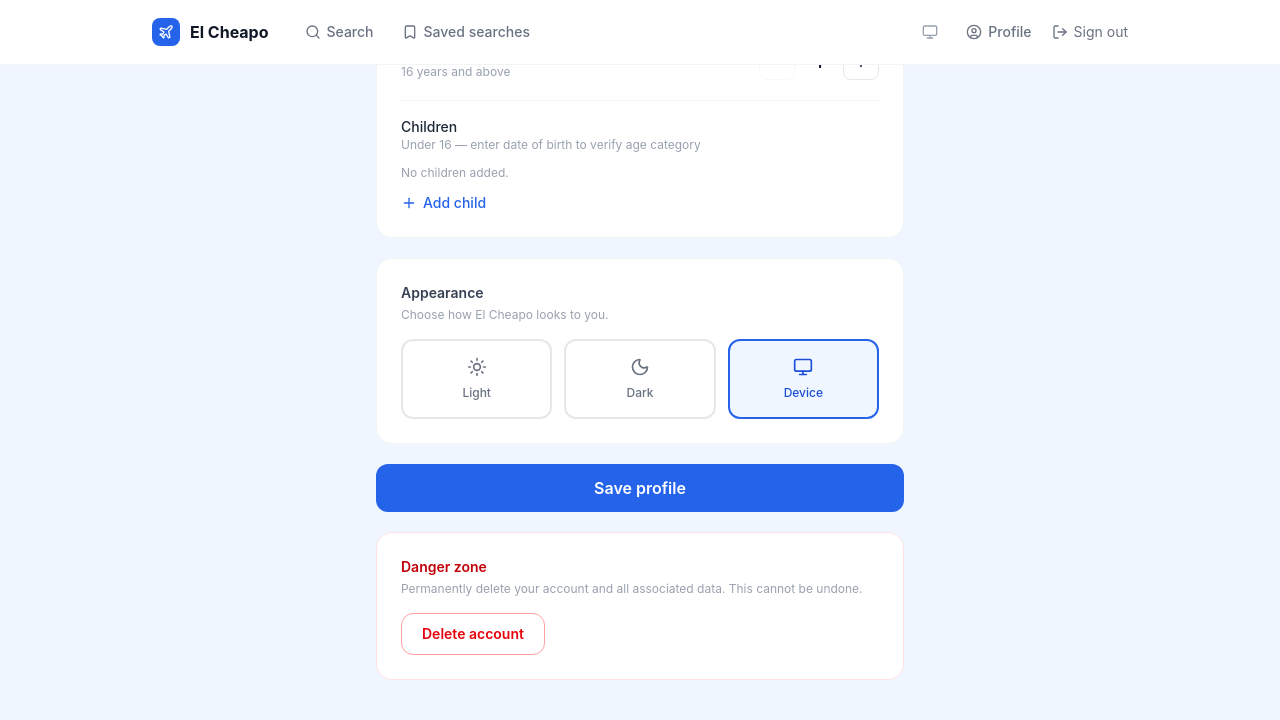
Test: Profile page › shows error when save fails
(page scrolled)
What coordinates should you click on to do the following:
click the button "Save profile"
I would click on:
 (640, 488)
Its box is [376, 464, 904, 512].
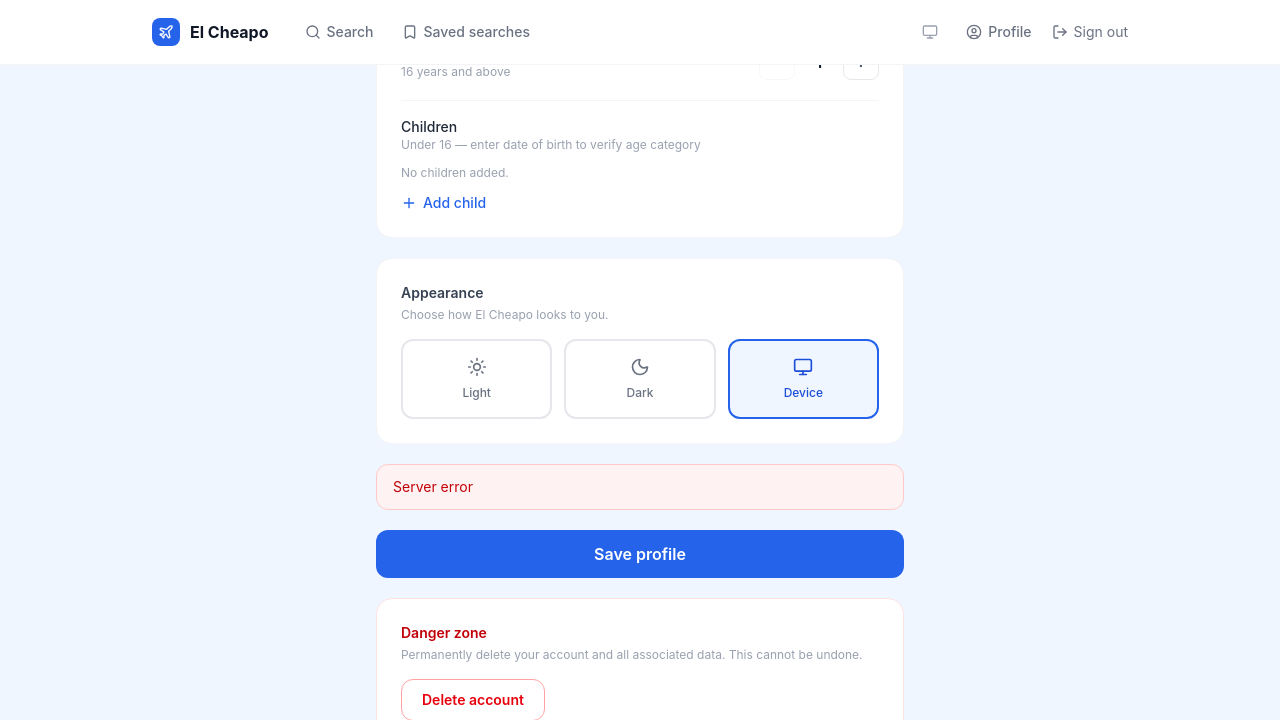
Check: the text "Server error" is shown, box [376, 464, 904, 510]
